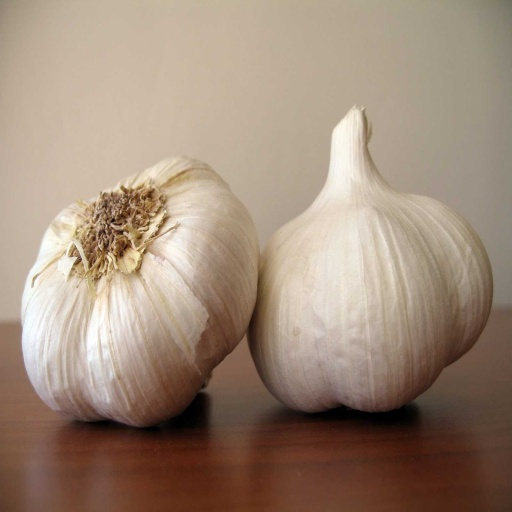Knoblauch: (246, 105, 494, 415), (22, 157, 259, 427)
